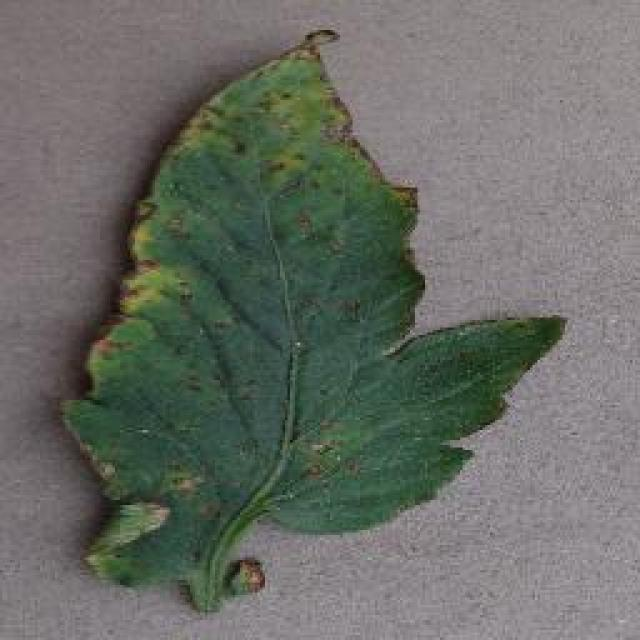Tomato bacterial spot leaf: (57, 23, 576, 602)
